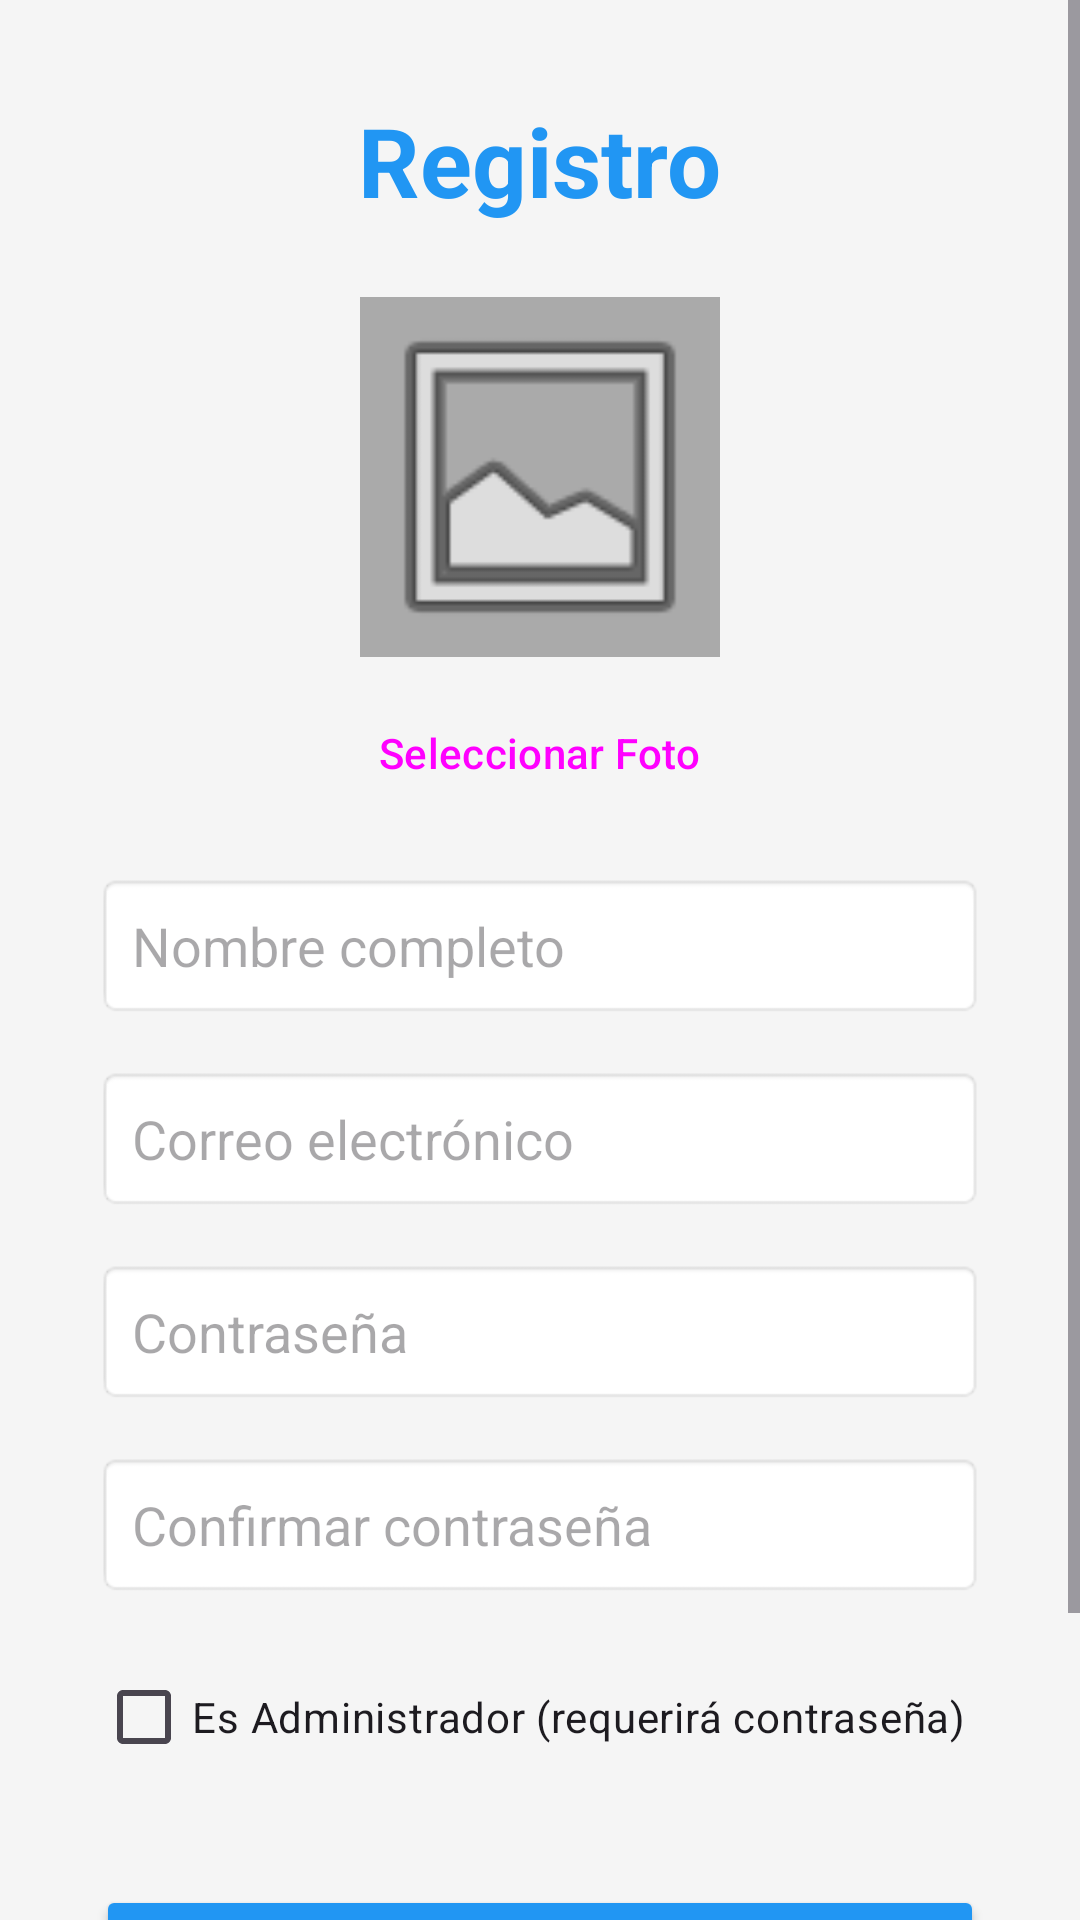

Icon bounding boxes for this 1080px x 1920px phone screenshot, format (x1, y1, x2, y2):
Foto de usuario: (360, 297, 720, 657)
